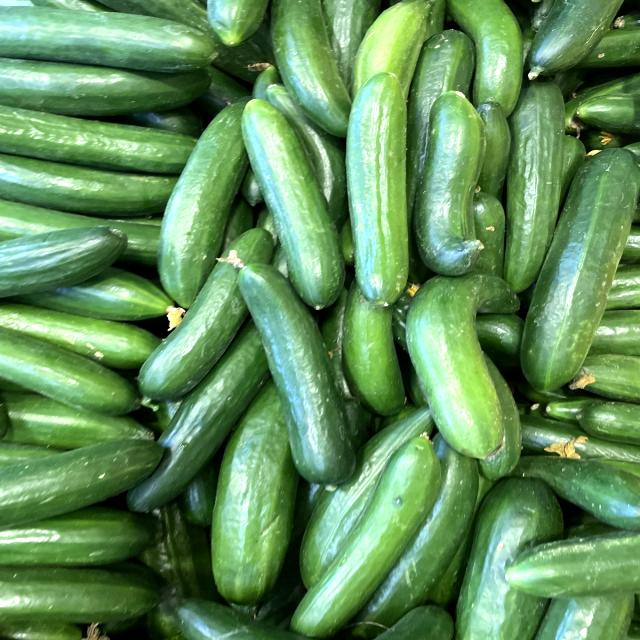cucumber: (217, 242, 367, 495), (518, 131, 640, 399), (231, 88, 357, 311), (347, 56, 422, 315)
